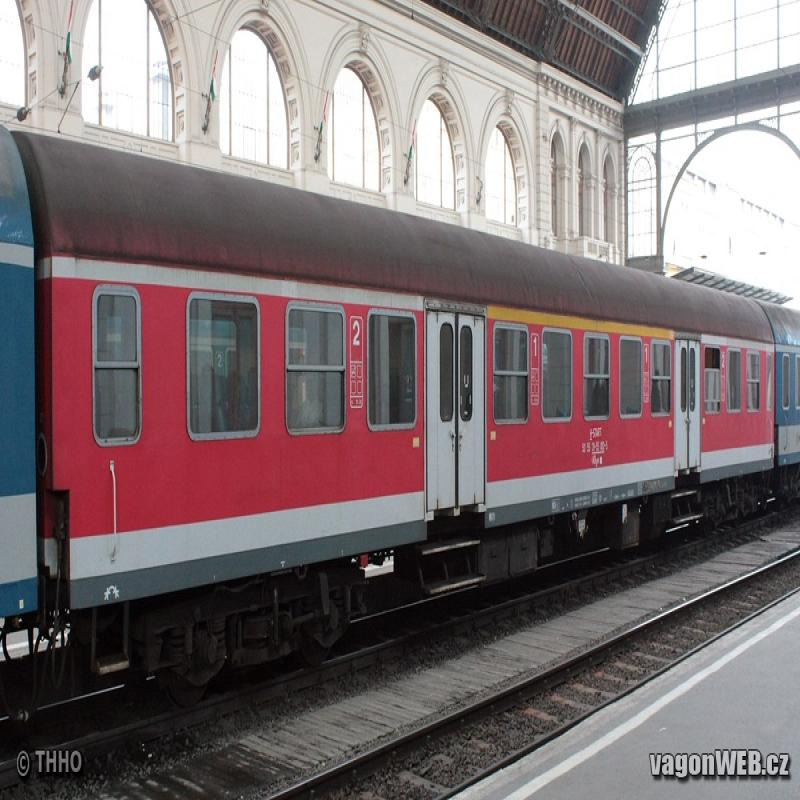train: (20, 130, 777, 688)
